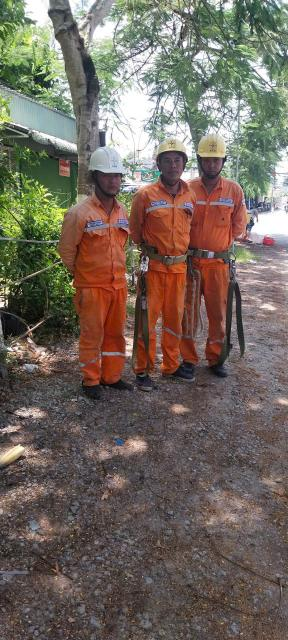harness: (137, 241, 190, 270), (186, 241, 242, 268)
helmet: (81, 146, 133, 179), (190, 130, 232, 163), (155, 135, 191, 161)
shoes: (130, 364, 159, 396), (80, 377, 107, 403), (164, 364, 197, 385), (106, 376, 138, 395), (205, 361, 236, 380), (175, 356, 200, 375)
